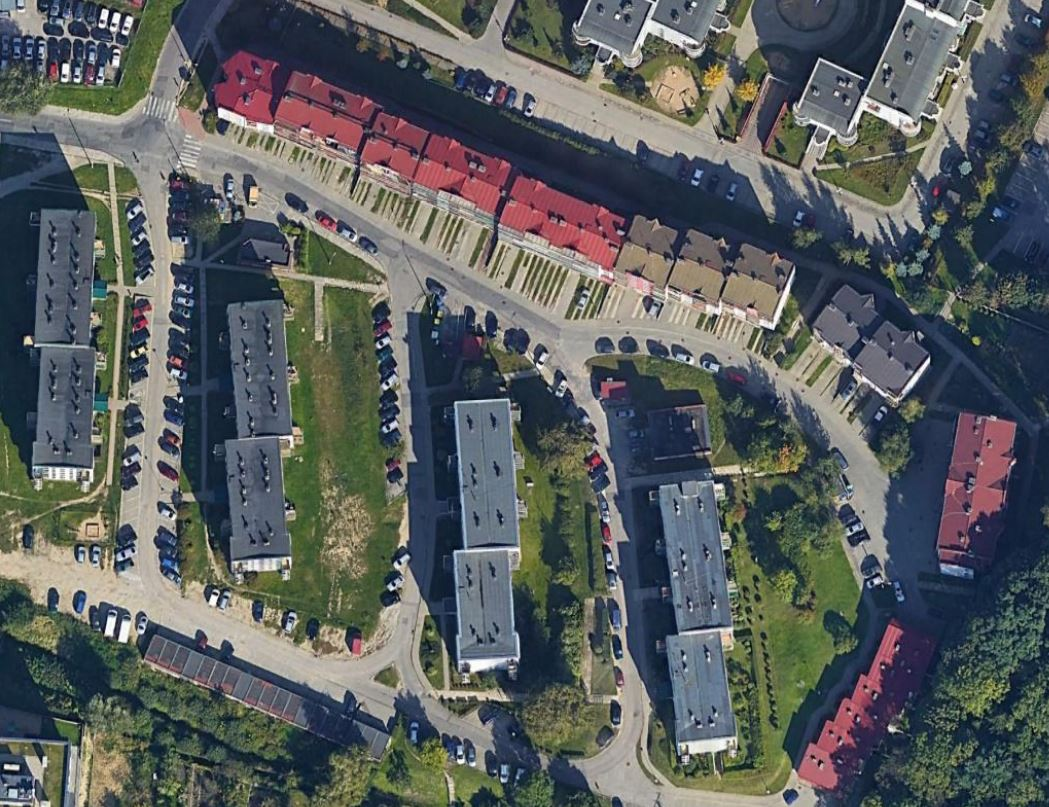block of flats: (438, 379, 549, 680), (13, 197, 119, 497), (779, 1, 1000, 143), (649, 477, 750, 767), (211, 291, 311, 582), (921, 404, 1035, 584), (537, 1, 741, 70)
terrace house: (206, 48, 807, 341), (804, 280, 939, 406)
